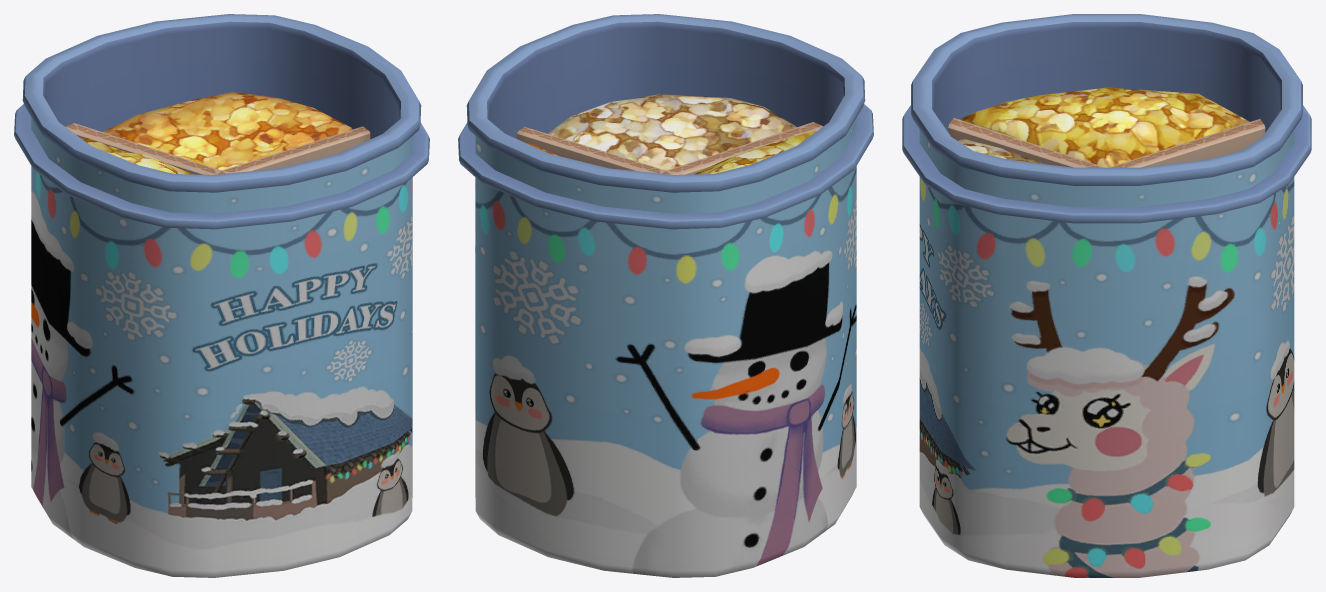
The model's file is bucket holiday.glb.
3 renders of one model, left to right at view 1: azimuth 30°, elevation 25°; view 2: azimuth 150°, elevation 25°; view 3: azimuth 270°, elevation 25°, orthographic.
Parts seen in each view (by area): view 1: Bucket, Bucket_Skin_Festive_Popcorn_LOD0; view 2: Bucket, Bucket_Skin_Festive_Popcorn_LOD0; view 3: Bucket, Bucket_Skin_Festive_Popcorn_LOD0.
Boxes of the visible parts, x1,y1,x2,y2 form: Bucket: [14, 14, 429, 577]; Bucket_Skin_Festive_Popcorn_LOD0: [65, 92, 370, 174]; Bucket: [458, 14, 873, 577]; Bucket_Skin_Festive_Popcorn_LOD0: [516, 94, 822, 174]; Bucket: [902, 14, 1311, 577]; Bucket_Skin_Festive_Popcorn_LOD0: [948, 87, 1265, 167].
Bounding box in the file's own units: 0.3395 × 0.3821 × 0.3438.
Materials: 2 (2 with a texture image).
